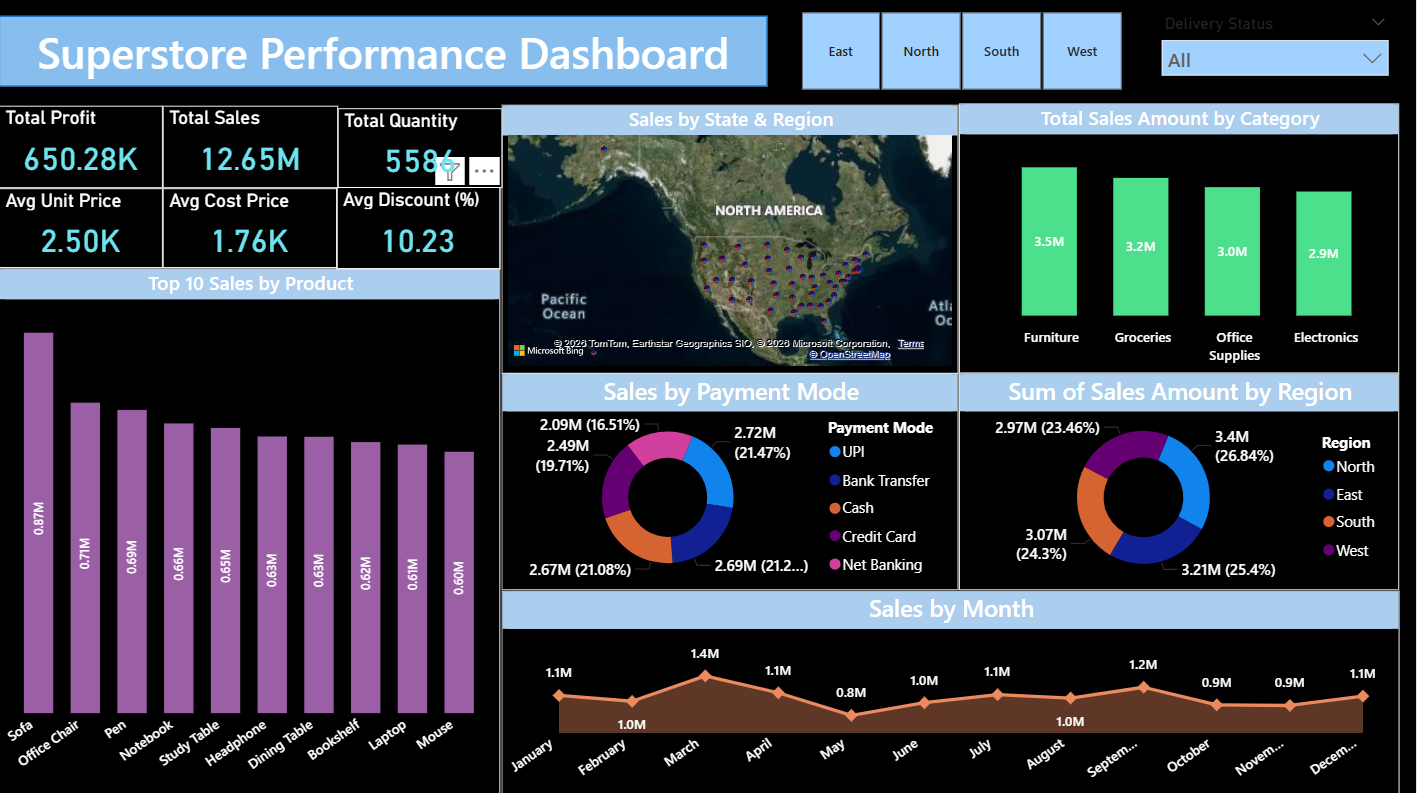

This screenshot's page, from the dashboard's own definition file:
{"tool":"powerbi","page":{"name":"Superstore Performance Dashboard","canvas":[1280,720],"ordinal":0},"visuals":[{"type":"shape","box":[0,17.4,694.2,64],"z":3000},{"type":"slicer","fields":{"Values":["Superstore_Management_Dataset.Delivery Status"]},"box":[1040.1,9.6,225,86.4],"z":4000},{"type":"columnChart","title":"Total Sales Amount by Category","fields":{"Y":["Sum(Superstore_Management_Dataset.Sales Amount)"],"Category":["Superstore_Management_Dataset.Category"]},"box":[867.2,96.1,397.9,244.3],"z":5000},{"type":"map","title":"Sales by State & Region","fields":{"Category":["Superstore_Management_Dataset.State"],"Series":["Superstore_Management_Dataset.Region"]},"box":[454.2,97.4,413,242.9],"z":6000},{"type":"slicer","fields":{"Values":["Superstore_Management_Dataset.Region"]},"box":[698.5,6.9,338.9,83.7],"z":7000},{"type":"donutChart","title":"Sales by Payment Mode","fields":{"Y":["Sum(Superstore_Management_Dataset.Sales Amount)"],"Category":["Superstore_Management_Dataset.Payment Mode"]},"box":[454.2,340.3,413,196.2],"z":8000},{"type":"donutChart","fields":{"Category":["Superstore_Management_Dataset.Region"],"Y":["Sum(Superstore_Management_Dataset.Sales Amount)"]},"box":[867.2,340.3,397.9,196.2],"z":9000},{"type":"lineChart","title":"Sales by Month","fields":{"Y":["Sum(Superstore_Management_Dataset.Sales Amount)"],"Category":["Superstore_Management_Dataset.Order Date.Variation.Date Hierarchy.Month"]},"box":[454.2,536.5,811,183.9],"z":10000},{"type":"columnChart","title":"Top 10 Sales by Product","fields":{"Category":["Superstore_Management_Dataset.Product Name"],"Y":["Sum(Superstore_Management_Dataset.Sales Amount)"]},"box":[0,244.6,453.2,475.3],"z":11000},{"type":"card","title":"Total Sales","fields":{"Values":["Sum(Superstore_Management_Dataset.Sales Amount)"]},"box":[147.9,97.9,158.4,74.6],"z":12000},{"type":"card","title":"Total Profit","fields":{"Values":["Sum(Superstore_Management_Dataset.Profit)"]},"box":[0,97.9,147.9,74.6],"z":13000},{"type":"card","title":"Avg Discount (%)","fields":{"Values":["Avg(Superstore_Management_Dataset.Discount (%))"]},"box":[305.2,171.2,147.9,74.6],"z":14000},{"type":"card","title":"Total Quantity","fields":{"Values":["Sum(Superstore_Management_Dataset.Quantity)"]},"box":[306.4,100.2,149.1,72.2],"z":15000},{"type":"card","title":"Avg Cost Price","fields":{"Values":["Avg(Superstore_Management_Dataset.Cost Price)"]},"box":[147.9,172.4,157.3,72.2],"z":16000},{"type":"card","title":"Avg Unit Price ","fields":{"Values":["Avg(Superstore_Management_Dataset.Unit Price)"]},"box":[0,172.4,147.9,72.2],"z":17000}]}

Visuals, with their boxes in screenshot pixels (x1, y1, x2, y2), scaled from the page's 1280x720 canvas onto the 1417x793 screenshot:
shape: [0,19,769,90]
slicer - Superstore_Management_Dataset.Delivery Status: [1151,11,1401,106]
"Total Sales Amount by Category" columnChart: [960,106,1401,375]
"Sales by State & Region" map: [503,107,960,375]
slicer - Superstore_Management_Dataset.Region: [773,8,1148,100]
"Sales by Payment Mode" donutChart: [503,375,960,591]
donutChart - Superstore_Management_Dataset.Region x Sum(Superstore_Management_Dataset.Sales Amount): [960,375,1401,591]
"Sales by Month" lineChart: [503,591,1401,792]
"Top 10 Sales by Product" columnChart: [0,269,502,792]
"Total Sales" card: [164,108,339,190]
"Total Profit" card: [0,108,164,190]
"Avg Discount (%)" card: [338,189,502,271]
"Total Quantity" card: [339,110,504,190]
"Avg Cost Price" card: [164,190,338,269]
"Avg Unit Price " card: [0,190,164,269]
